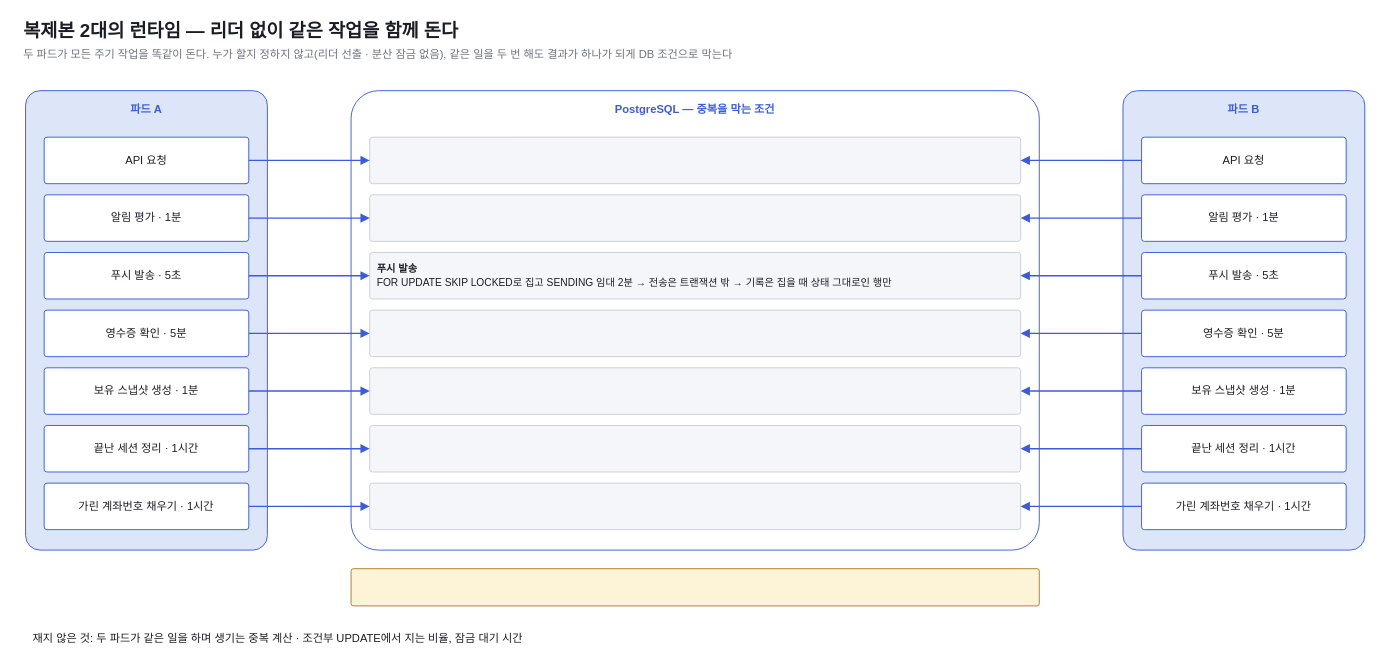
Image size: 1381x668. Some labels were removed from this diagram. Each missing label, with the centre of its shape:
"API 요청 상태를 메모리에 들지 않는다. 로그인 세션도 DB에 있다" goes at pixel 695 160.
"가린 계좌번호 채우기 빈 값만 채운다(조건부 UPDATE)" goes at pixel 695 506.
"끝난 세션 정리 지우기만 한다. 두 번 지워도 결과가 같다" goes at pixel 695 448.
"롤링 배포 중에는 옛 파드와 새 파드가 함께 돈다 — 같은 조건이 그대로 중복을 막는다" goes at pixel 694 587.
"보유 스냅샷 생성 처리 기록 UNIQUE(실행 id) · (계좌, 날짜) + 날짜 advisory 잠금(공유/배타) → 계좌 FOR UPDATE" goes at pixel 695 390.
"알림 평가 조건부 UPDATE(version · 평가한 데이터 시점) + 울림 UNIQUE(alert_id, as_of)" goes at pixel 695 217.
"영수증 확인 잠그지 않는다. 같은 티켓을 두 번 물어도 기록이 같다" goes at pixel 695 333.
